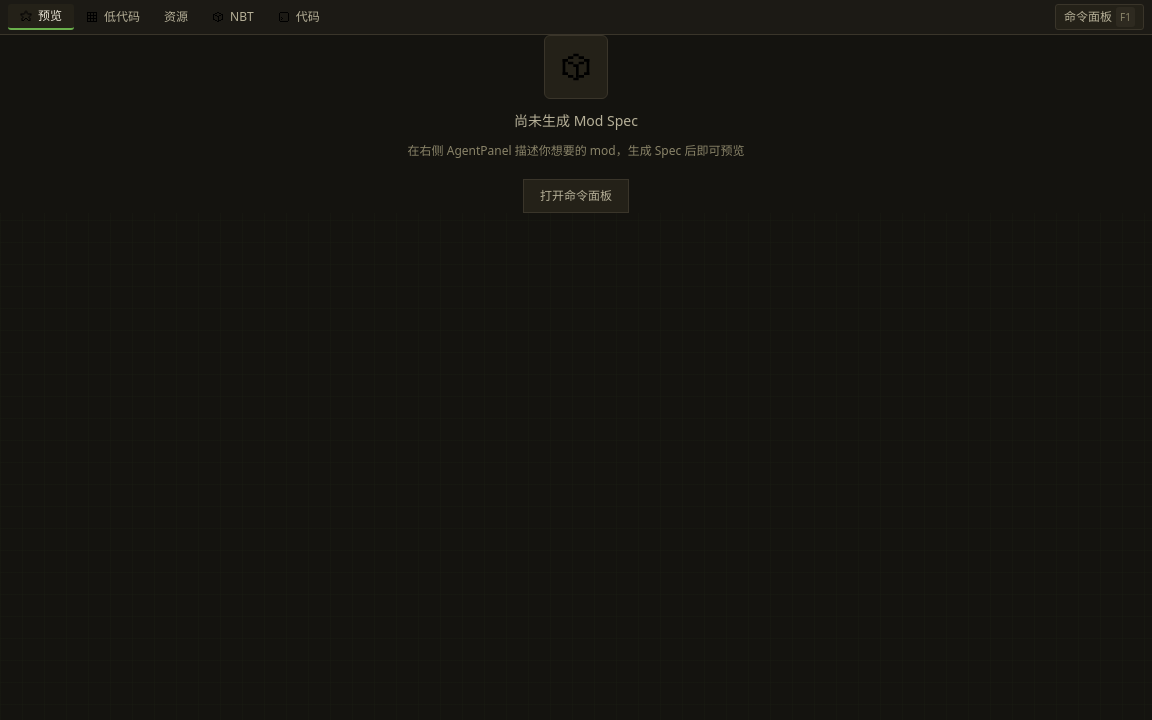
MiddlePanel › ESC 关闭命令面板
Click the button titled "打开命令面板（F1）": (1100, 17) [1055,4,1144,30]
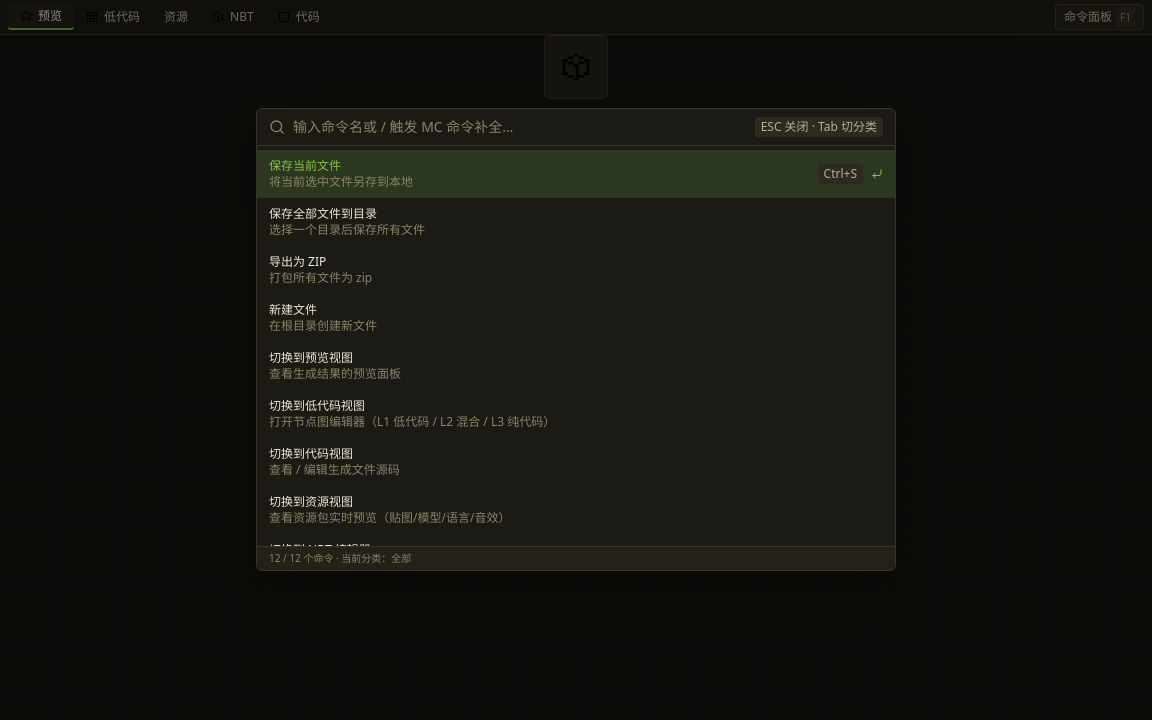
expect the text "保存当前文件" is shown: met, box [269,157,341,174]
// ESC 关闭（CommandPalette 的 ESC 监听在 input 上，不是 window）
Press Escape in the field with placeholder "输入命令名或 / 触发 MC 命令补全…", box [293,117,747,137]
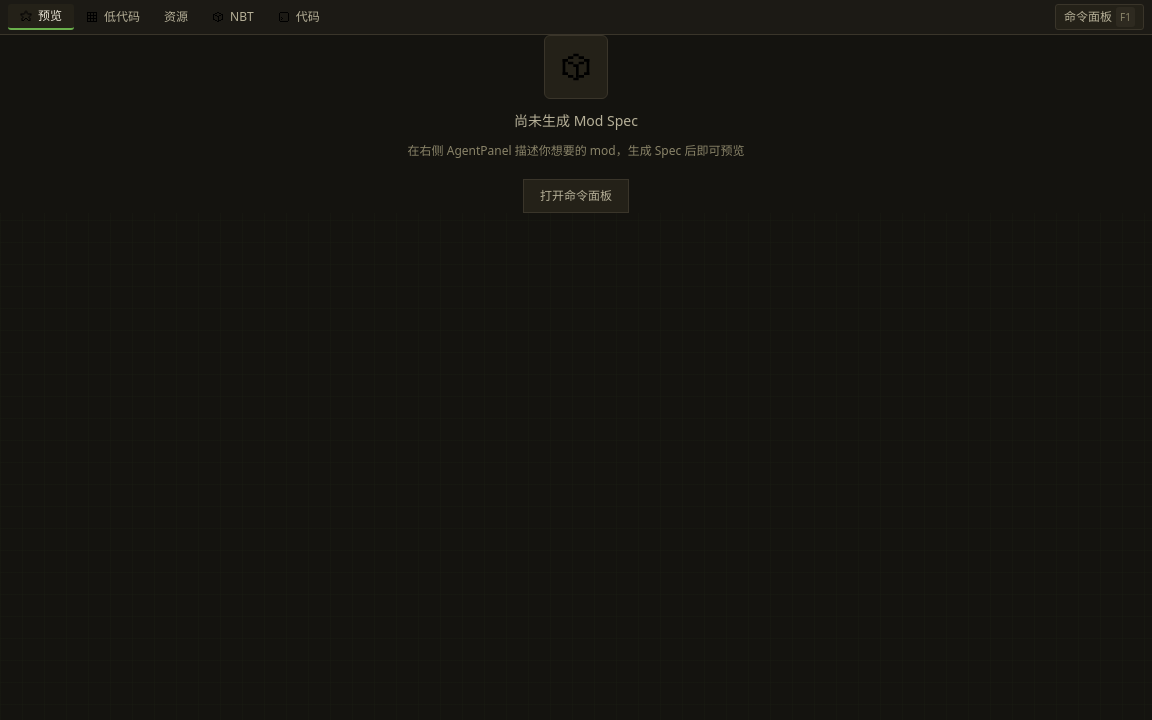
expect the button "保存当前文件" is gone: met
